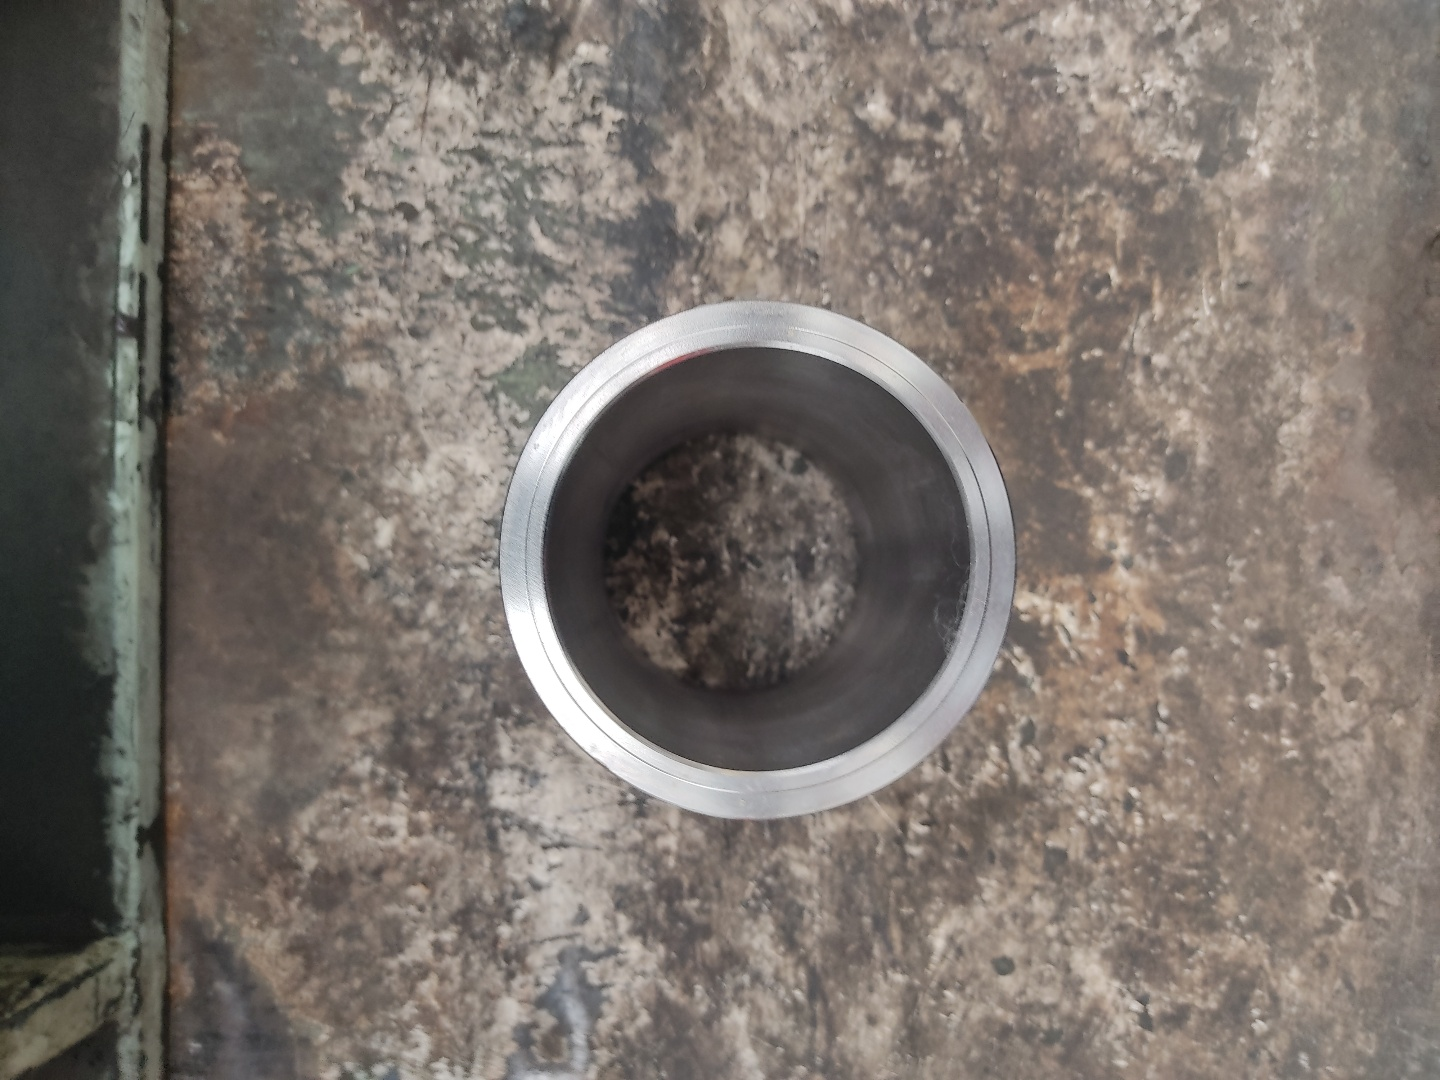cylinder: (494, 296, 1022, 826)
